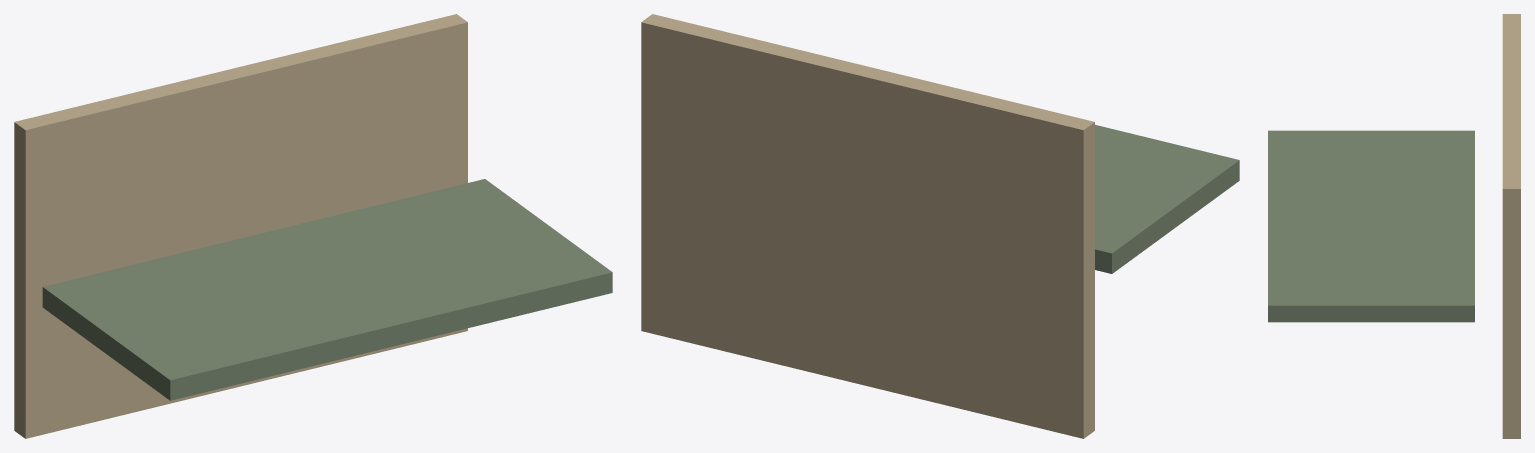
The model's file is tent.glb.
3 renders of one model, left to right at view 1: azimuth 30°, elevation 25°; view 2: azimuth 150°, elevation 25°; view 3: azimuth 270°, elevation 25°, orthographic. The views are drawn at different scales.
Parts seen in each view (by area): view 1: g0_base, g1_ridge; view 2: g0_base, g1_ridge; view 3: g1_ridge, g0_base.
Part boxes in pixels (x1=…): g0_base: x1=14, y1=14, x2=467, y2=438; g1_ridge: x1=42, y1=179, x2=612, y2=400; g0_base: x1=641, y1=14, x2=1094, y2=438; g1_ridge: x1=1095, y1=125, x2=1239, y2=273; g1_ridge: x1=1268, y1=130, x2=1474, y2=322; g0_base: x1=1502, y1=14, x2=1520, y2=438.
Bounding box in the file's own units: 1.8 × 1.2 × 1.1.
